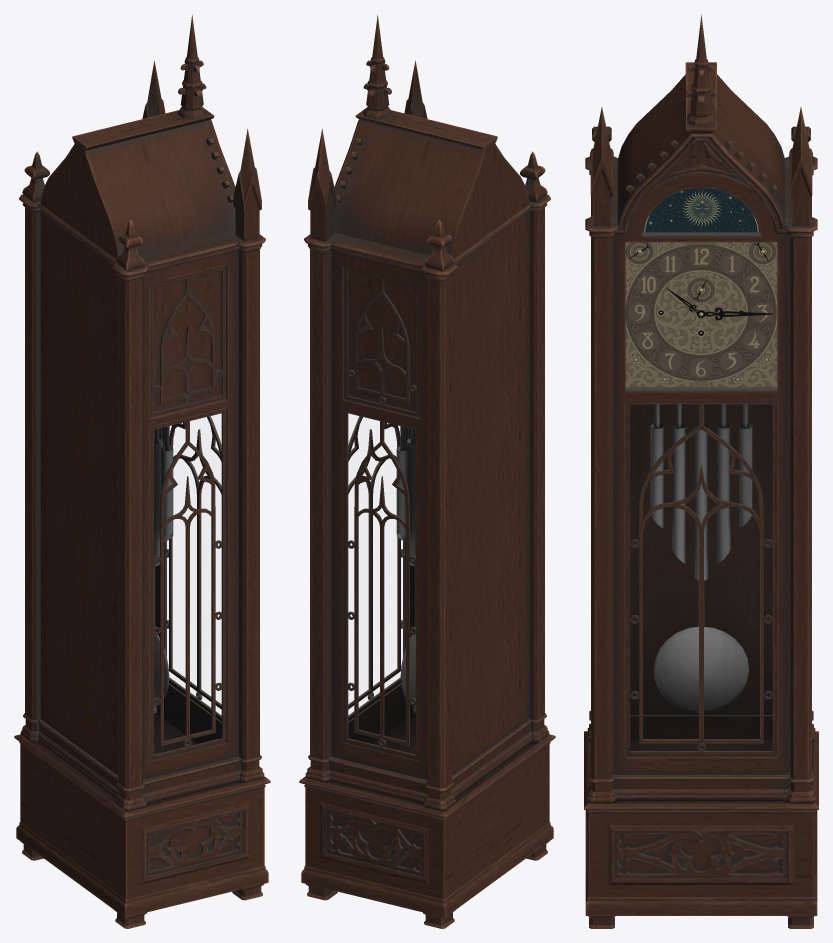
File: grandfather.glb
3 renders of one model, left to right at view 1: azimuth 30°, elevation 25°; view 2: azimuth 150°, elevation 25°; view 3: azimuth 270°, elevation 25°, orthographic. The views are drawn at different scales.
Parts seen in each view (by area): view 1: ClockCase_ClockCase_0; view 2: ClockCase_ClockCase_0; view 3: ClockCase_ClockCase_0, Clockface_Clockface_0, MoonDial_MoonDial_0.
Boxes of the visible parts, x1,y1,x2,y2 form: ClockCase_ClockCase_0: [14, 15, 270, 928]; ClockCase_ClockCase_0: [299, 15, 555, 928]; ClockCase_ClockCase_0: [584, 14, 818, 928]; Clockface_Clockface_0: [625, 242, 777, 387]; MoonDial_MoonDial_0: [642, 187, 760, 232].
Size of the model in its own units: 47.47 by 263 by 61.93.
4 materials, 3 textured.
